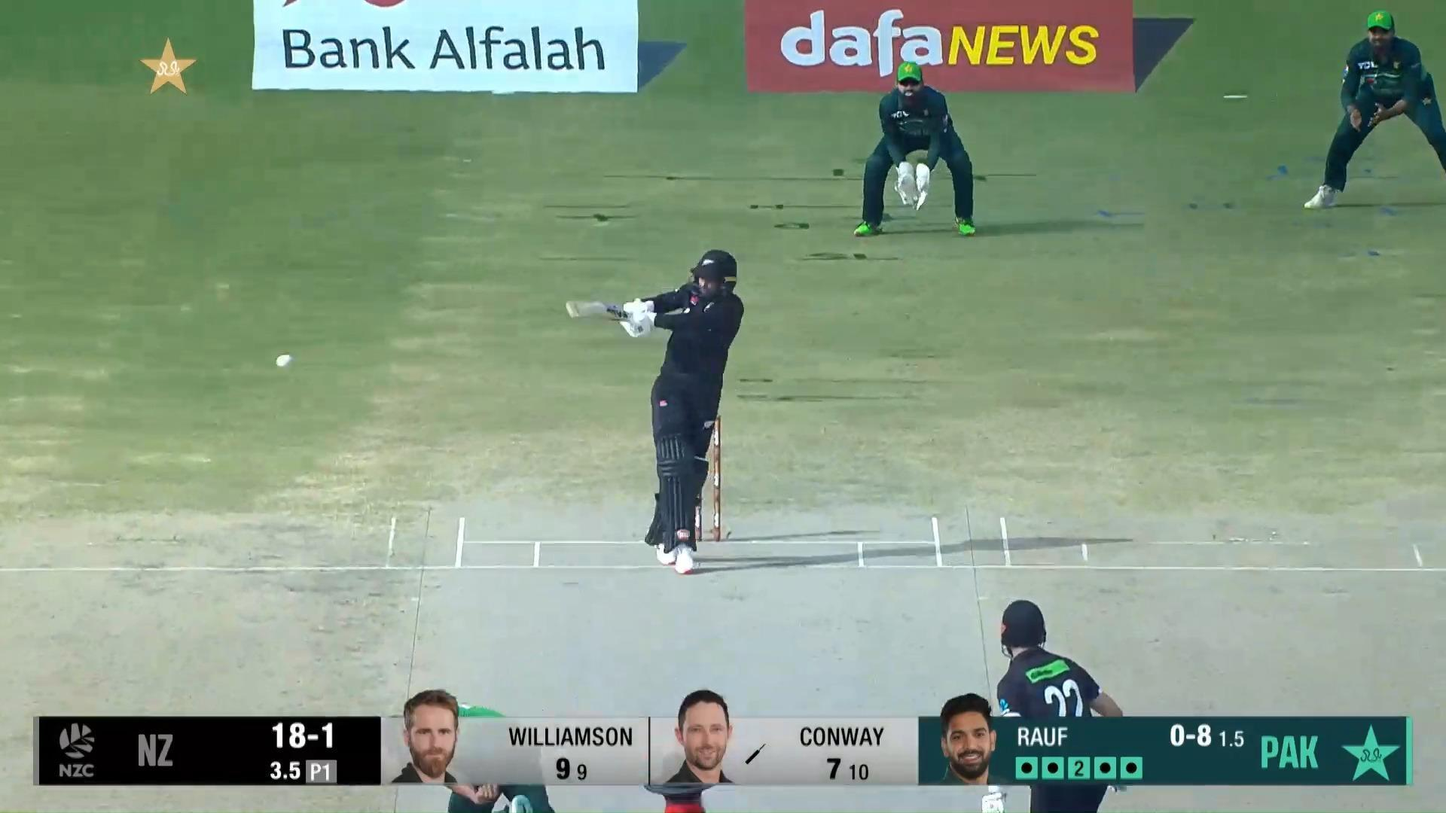BM 1: (566, 248, 744, 575)
BO: (412, 702, 555, 813)
